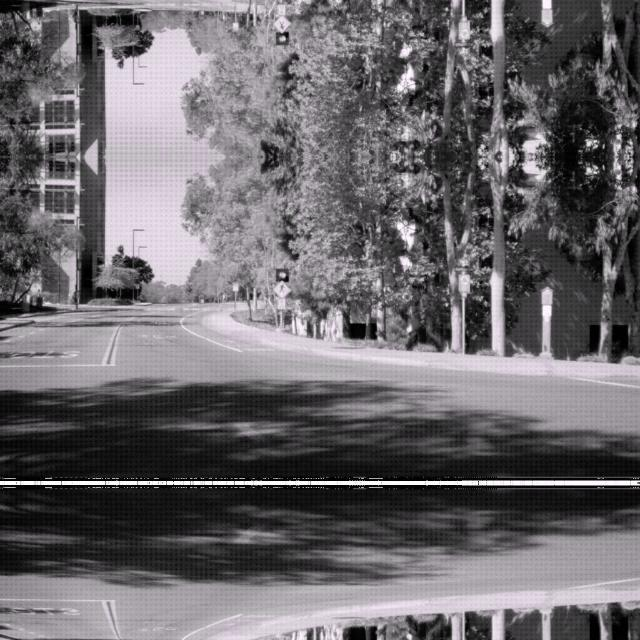pedestrianCrossing: (273, 278, 291, 298), (273, 14, 291, 34)
